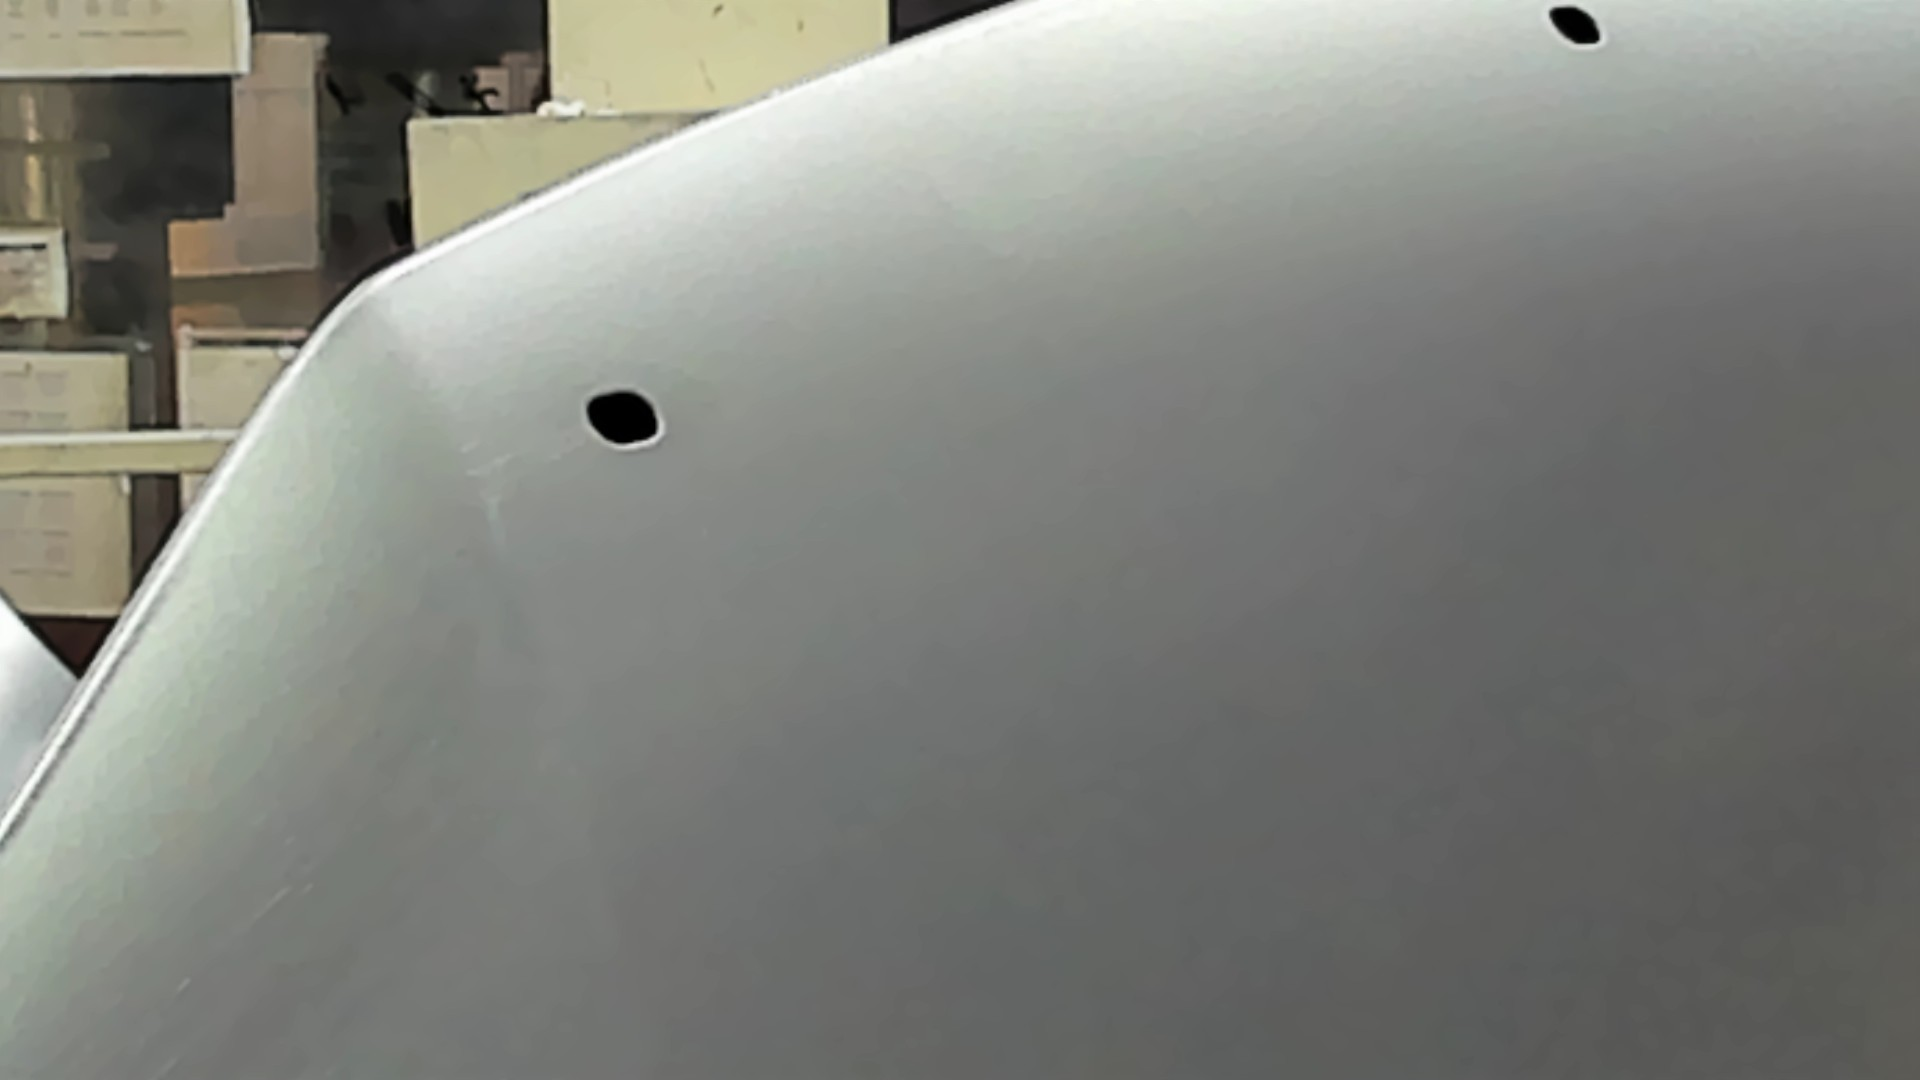amorfo: (575, 386, 674, 447), (1545, 1, 1611, 55)
capo: (767, 138, 1920, 1080)
